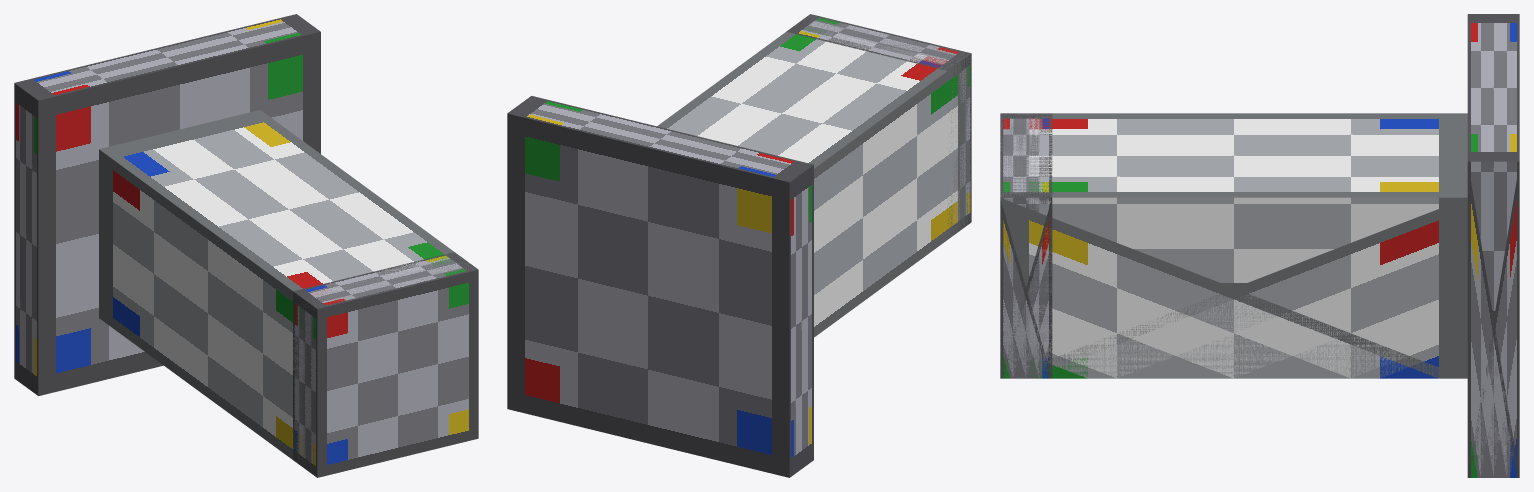
The model's file is terminal_mv.obj.
The picture shows the model from 3 angles, left to right: view 1: azimuth 30°, elevation 25°; view 2: azimuth 150°, elevation 25°; view 3: azimuth 270°, elevation 25°; orthographic projection. The views are drawn at different scales.
Bounding box in the file's own units: 6.72 × 6.72 × 10.
